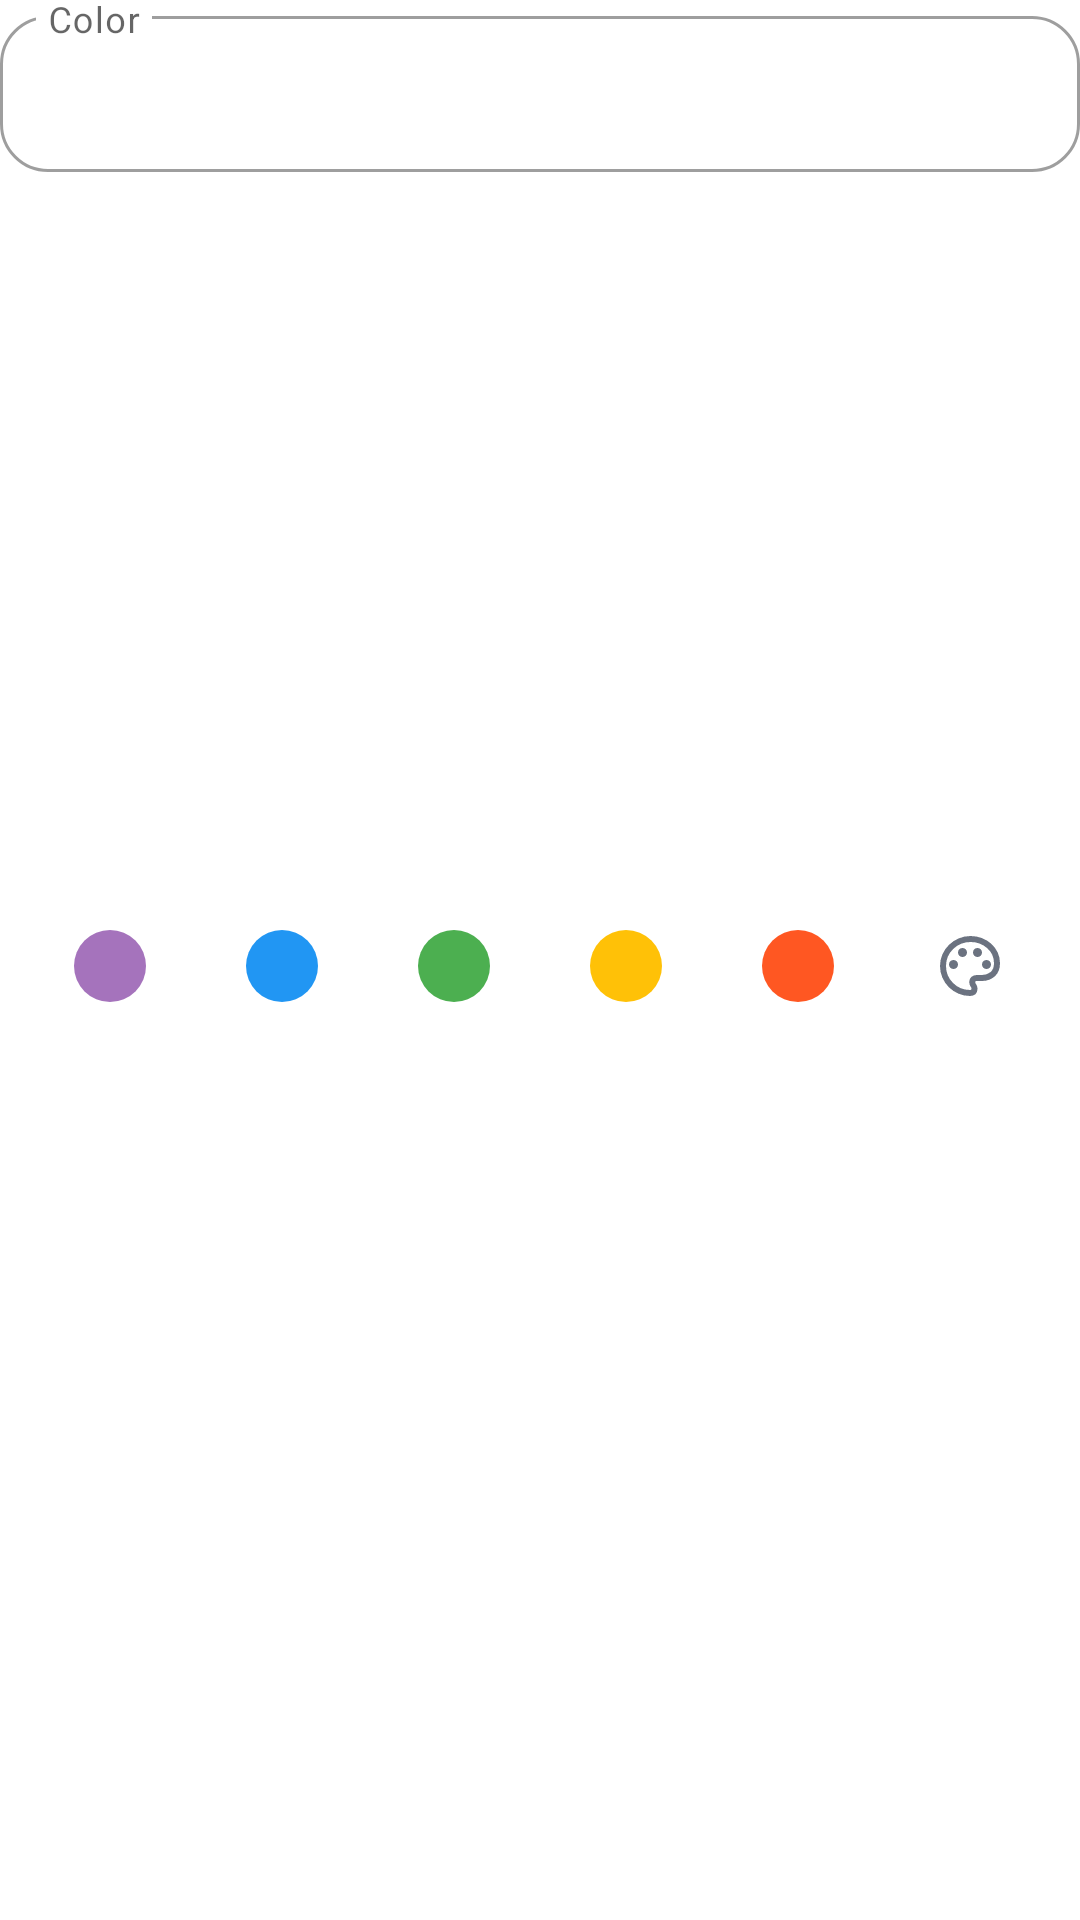

Where to tap for icons on this 1080x1920 app screen, as (x,y):
palette open: (970,966)
